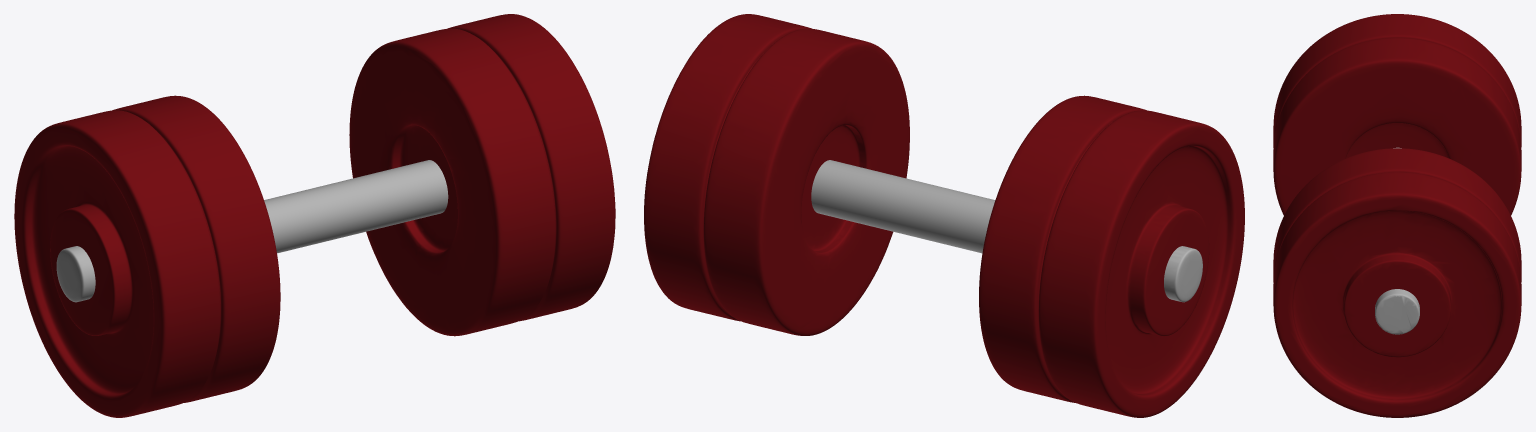
Rendered from gym.glb.
3 views of the same model, side by side, from view 1: azimuth 30°, elevation 25°; view 2: azimuth 150°, elevation 25°; view 3: azimuth 270°, elevation 25° (orthographic). The views are drawn at different scales.
Visible parts, largest first — view 1: Gym; view 2: Gym; view 3: Gym.
Boxes of the visible parts, x1,y1,x2,y2 form: Gym: (14, 14, 615, 417); Gym: (644, 14, 1244, 417); Gym: (1273, 14, 1521, 417).
Bounding box in the file's own units: 1.9 × 1.01 × 1.01.
